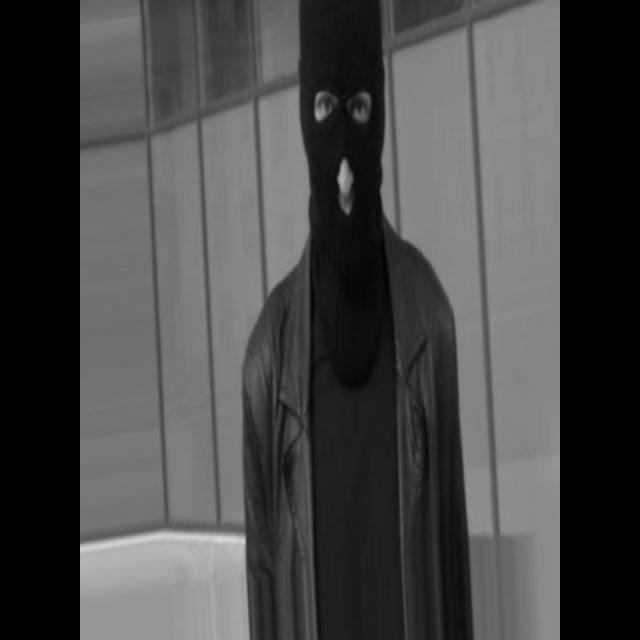6_pasamontana: (290, 5, 400, 344)
